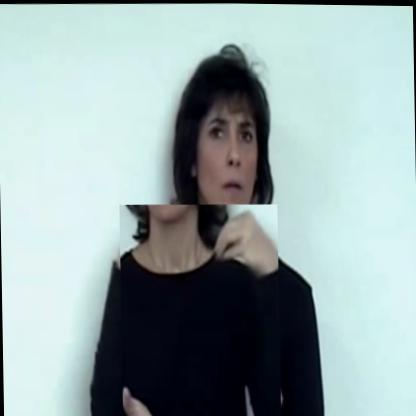Expensive: (119, 200, 281, 416)
